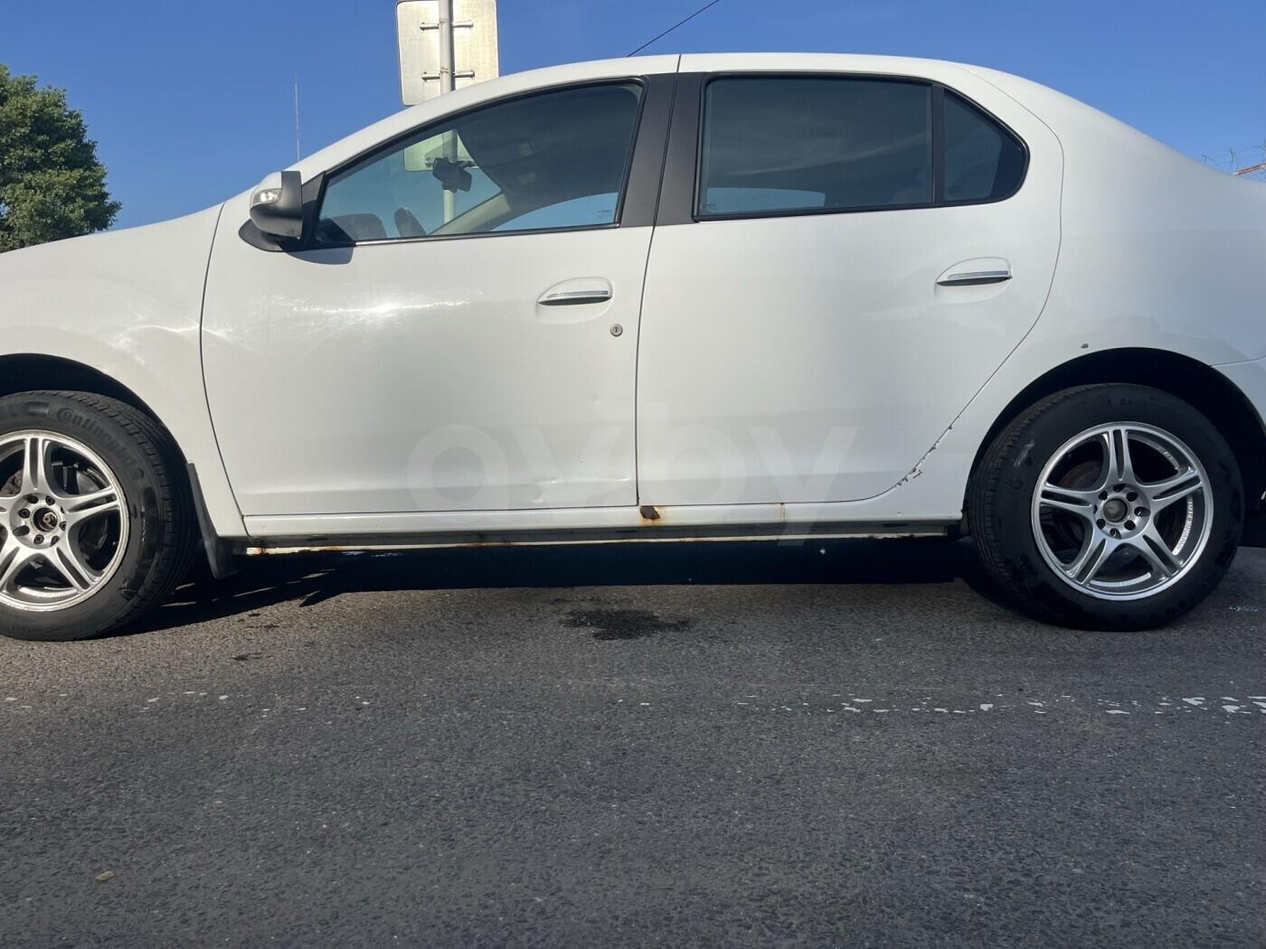Logan_2013-2018: (0, 40, 1266, 673)
